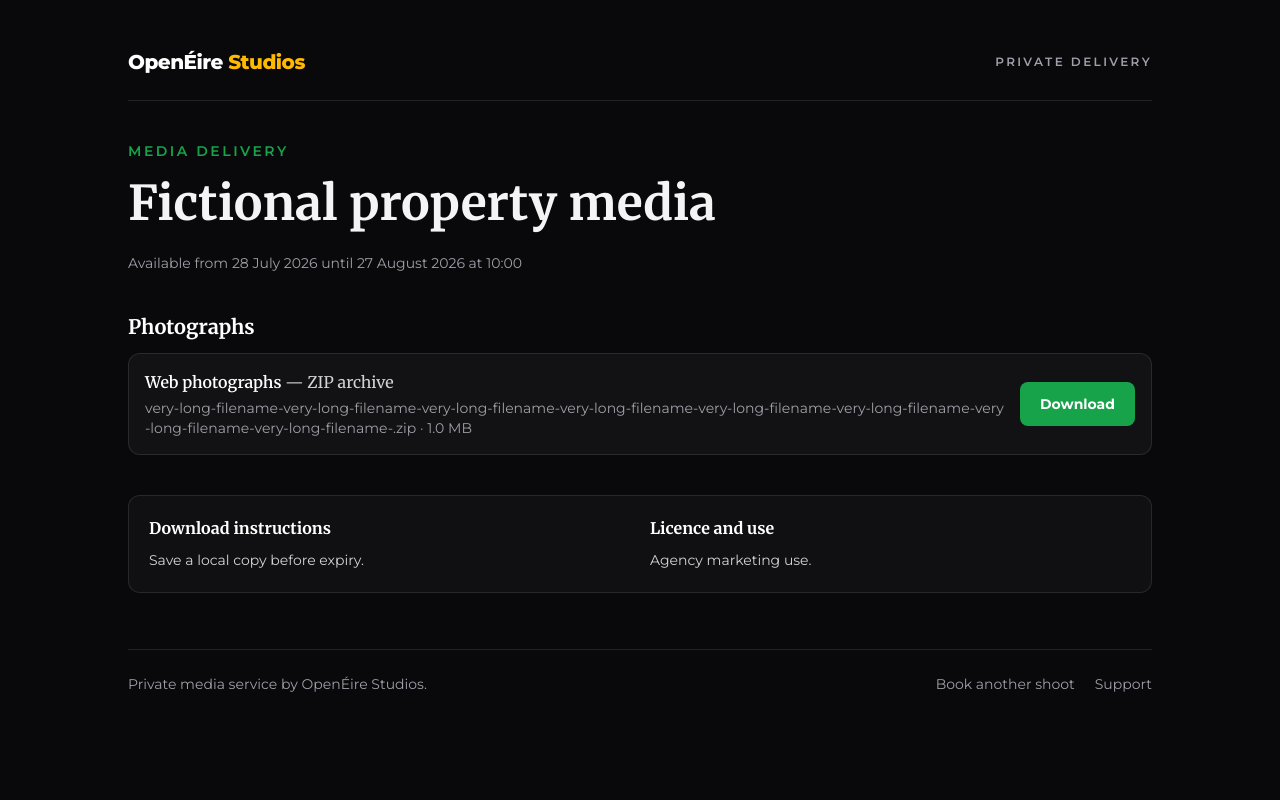
Test: private delivery bootstrap › shows an accessible generic error when download initiation fails
Click the button with aria-label "Download Web photographs" at (1078, 404), box x1=1020 y1=382 x2=1135 y2=426
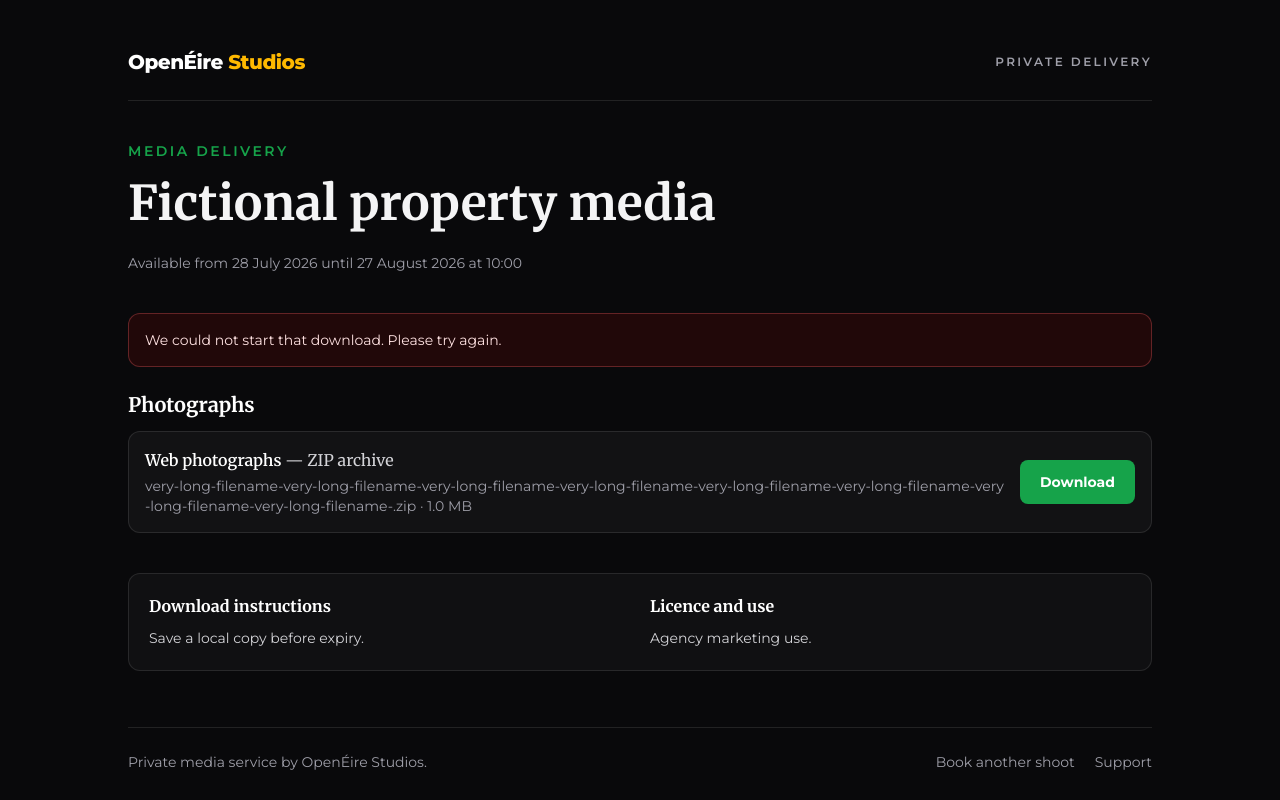
expect the message reads "We could not start that download. Please try again.": met, box x1=145 y1=331 x2=502 y2=349
